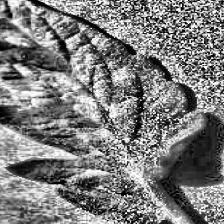leaf mold: (0, 0, 208, 224)
